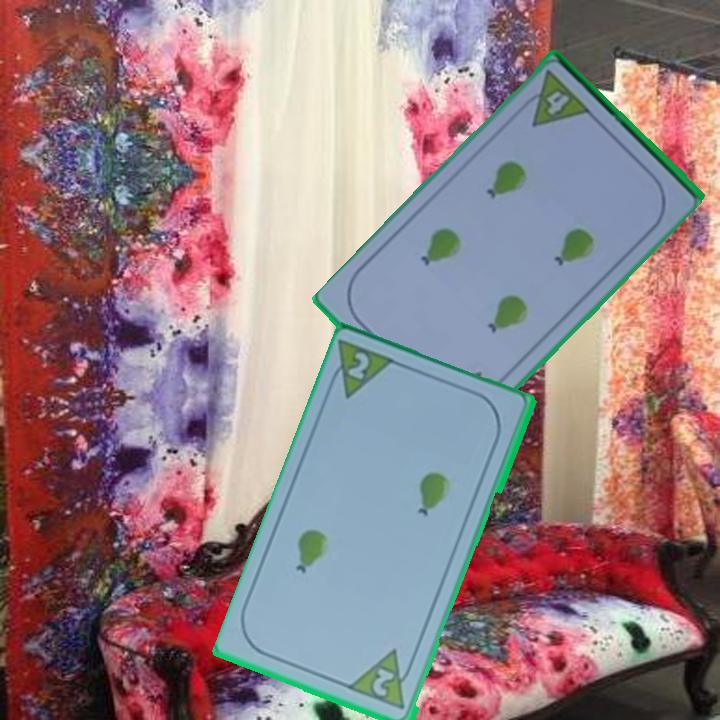2p: (343, 348, 373, 384), (369, 665, 399, 700)
4p: (514, 67, 593, 131)
